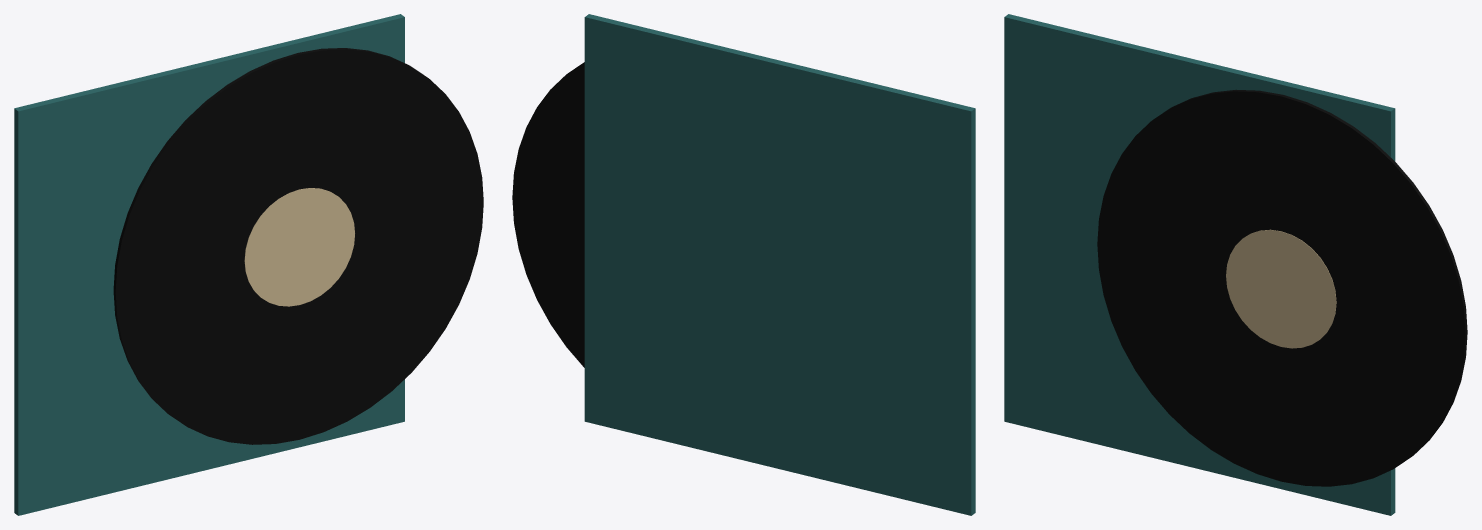
The model's file is record-5.glb.
3 views of the same model, side by side, from view 1: azimuth 30°, elevation 25°; view 2: azimuth 150°, elevation 25°; view 3: azimuth 330°, elevation 25° (orthographic).
Size of the model in its own units: 0.3775 by 0.315 by 0.0093.
